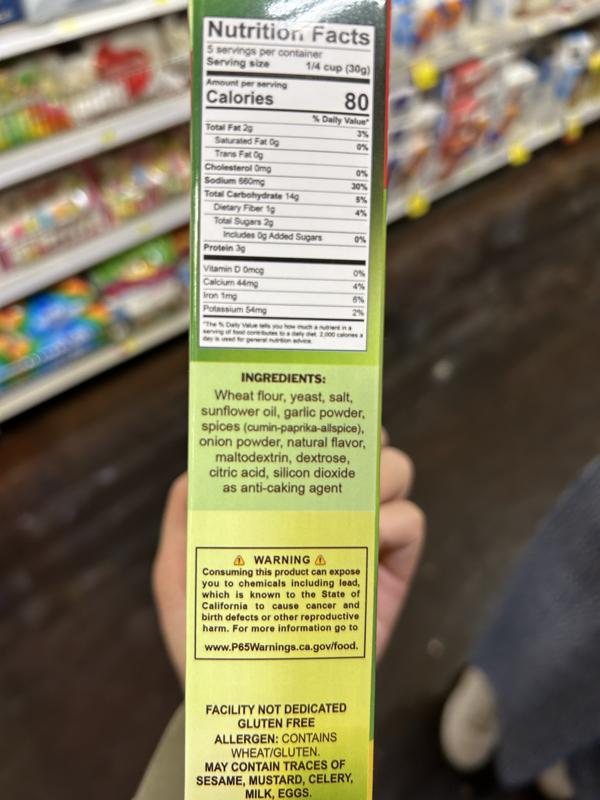ingredients: (195, 370, 370, 498)
